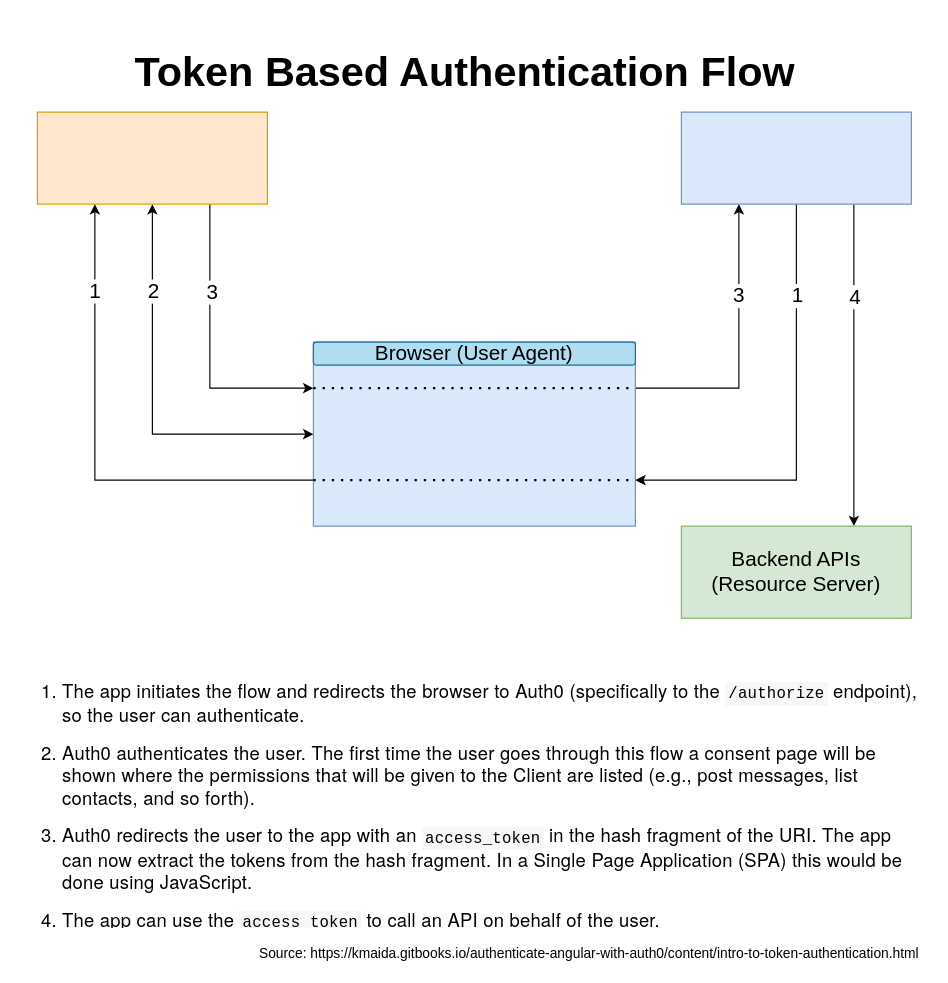
This 948x983 diagram has some shape labels left out. Each missing label, with the centre of its shape:
Auth0 (Authorization Server): [151,157]
SPA (Client): [795,157]
